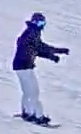snowboarder: (12, 12, 69, 127)
